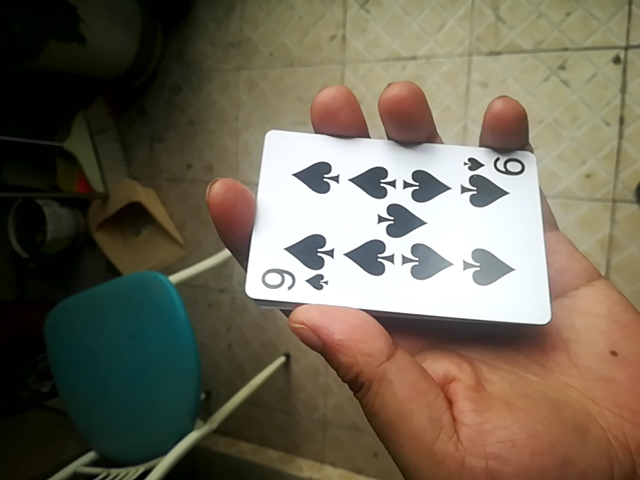ht 9: (237, 146, 553, 318)
